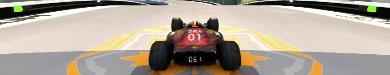Car: (148, 16, 241, 70)
Solid White and black: (65, 22, 323, 74)
curve: (0, 0, 389, 74)
obstacles-Borders: (0, 0, 148, 20), (244, 0, 389, 20)
